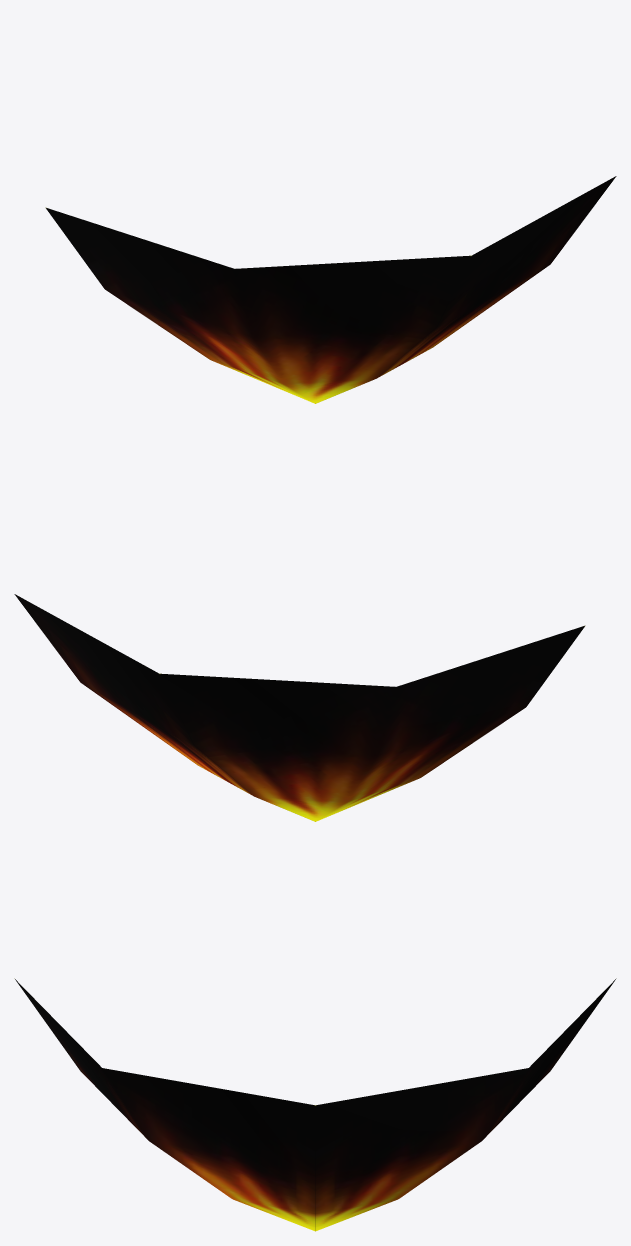
The model's file is Magic01.glb.
3 renders of one model, top to bottom at view 1: azimuth 30°, elevation 25°; view 2: azimuth 150°, elevation 25°; view 3: azimuth 270°, elevation 25°, orthographic. The views are drawn at different scales.
Visible parts, largest first — view 1: model_Magic01; view 2: model_Magic01; view 3: model_Magic01.
Part boxes in pixels (x1,y1,x2,y2): model_Magic01: (45, 176, 616, 403); model_Magic01: (14, 594, 585, 821); model_Magic01: (14, 978, 616, 1231).
Bounding box in the file's own units: 1.99 × 0.923 × 1.99.
Materials: 1 (1 with a texture image).
